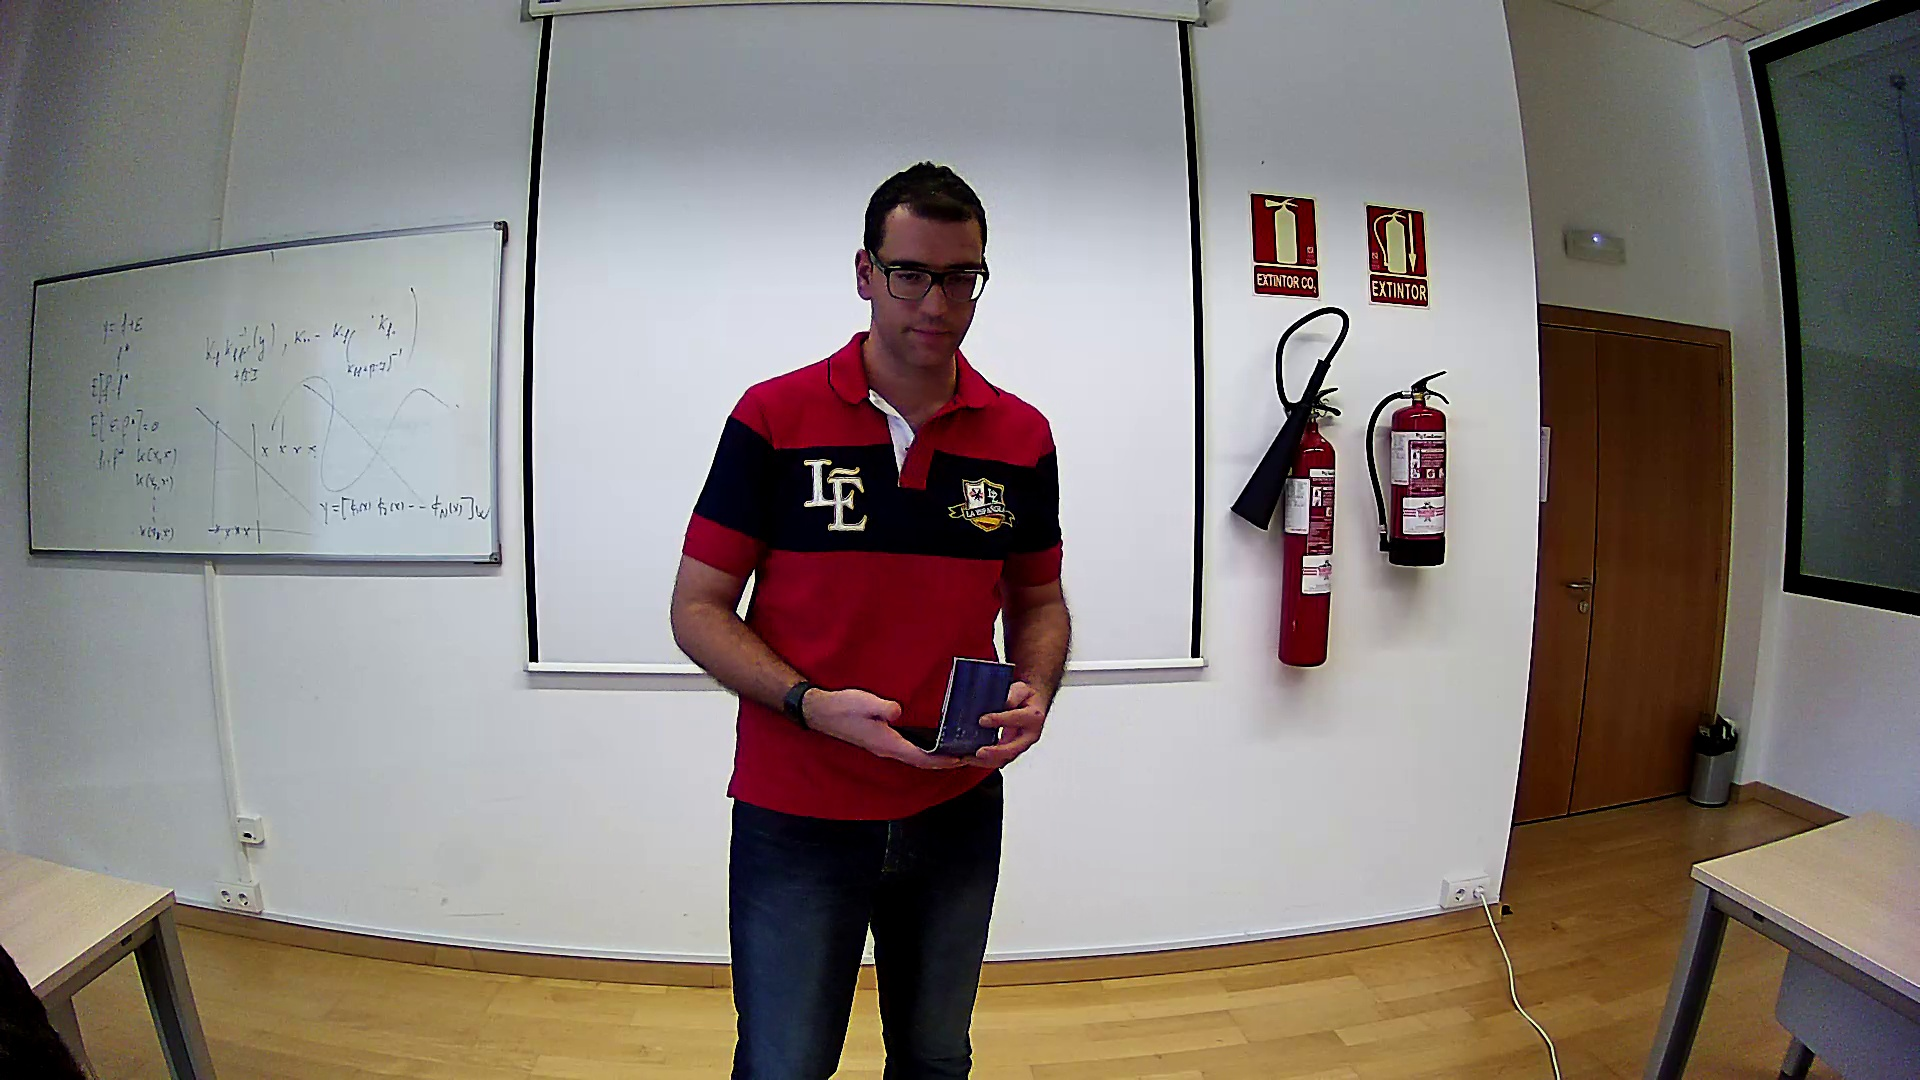monedero: (893, 655, 1017, 758)
